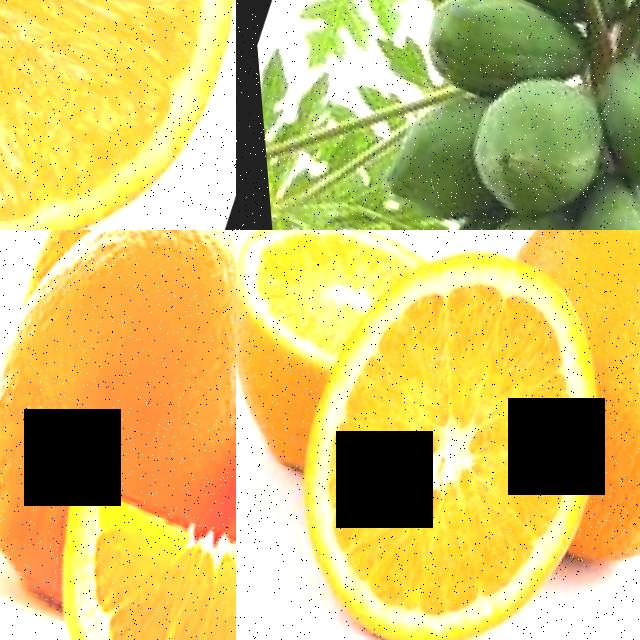orange: (236, 230, 640, 640), (0, 230, 236, 538), (0, 0, 236, 230), (528, 230, 640, 620), (0, 461, 236, 640), (236, 230, 399, 488)
pawpaw: (439, 56, 618, 230), (360, 72, 493, 221), (406, 0, 542, 100), (569, 42, 640, 188)
